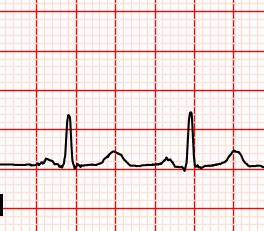LVH: (92, 148, 137, 171)
